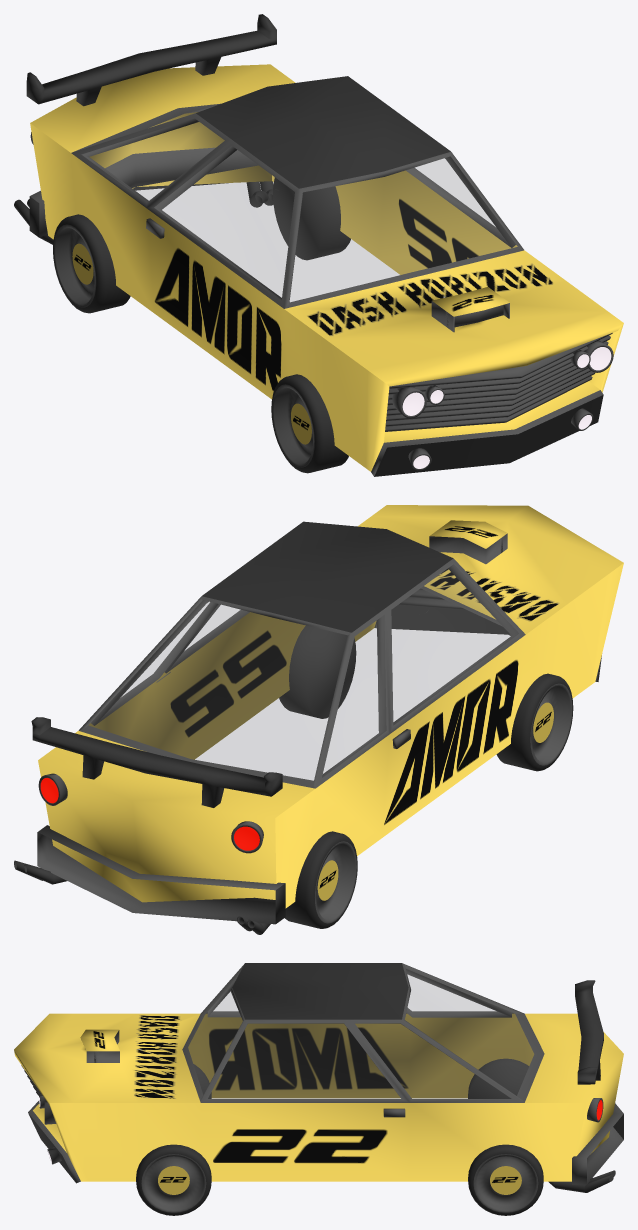
The model's file is car_lowpoly_mod_4.glb.
3 renders of one model, top to bottom at view 1: azimuth 30°, elevation 25°; view 2: azimuth 150°, elevation 25°; view 3: azimuth 270°, elevation 25°, orthographic. The views are drawn at different scales.
Parts seen in each view (by area): view 1: Circle; view 2: Circle; view 3: Circle.
Part boxes in pixels (bbox=[...]): Circle: bbox=[14, 14, 623, 476]; Circle: bbox=[14, 505, 623, 934]; Circle: bbox=[14, 963, 623, 1215].
Bounding box in the file's own units: 2.97 × 2.63 × 7.98.
Materials: 10 (3 with a texture image).
